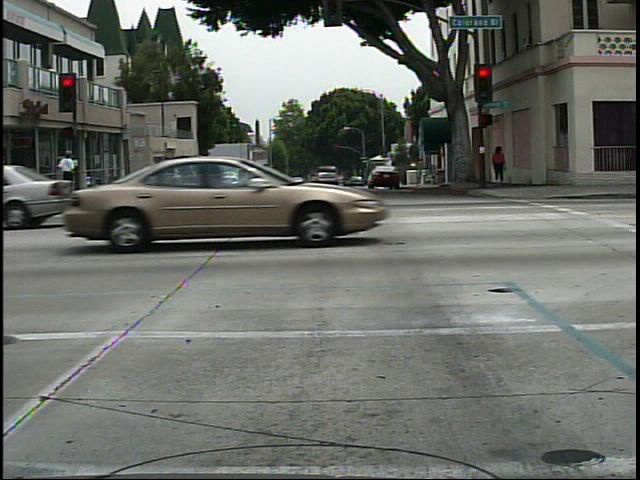person: (52, 143, 81, 205), (491, 143, 507, 183)
